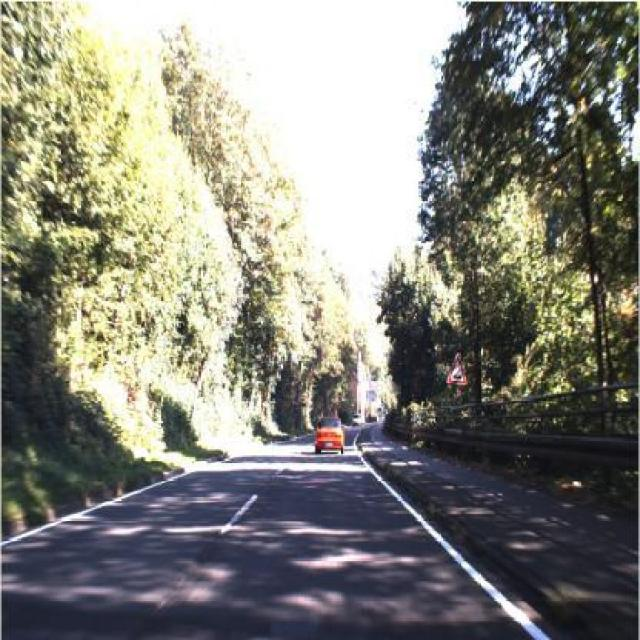traffic_sign: (444, 347, 470, 388)
